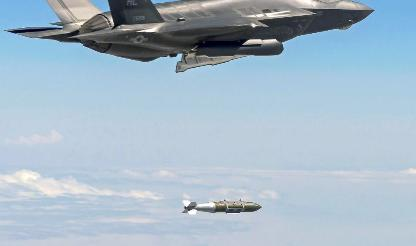F22: (3, 0, 374, 71)
